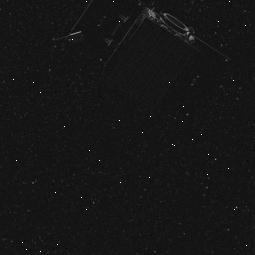proba_2: (44, 0, 228, 133)
